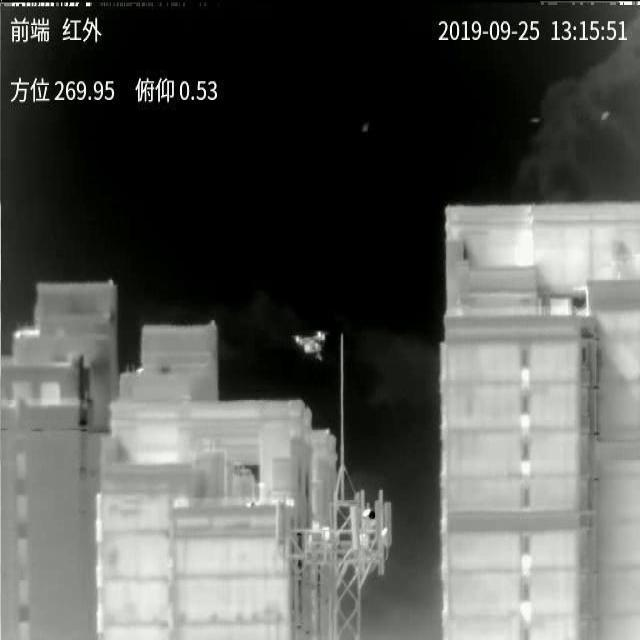drone: (293, 331, 326, 360)
